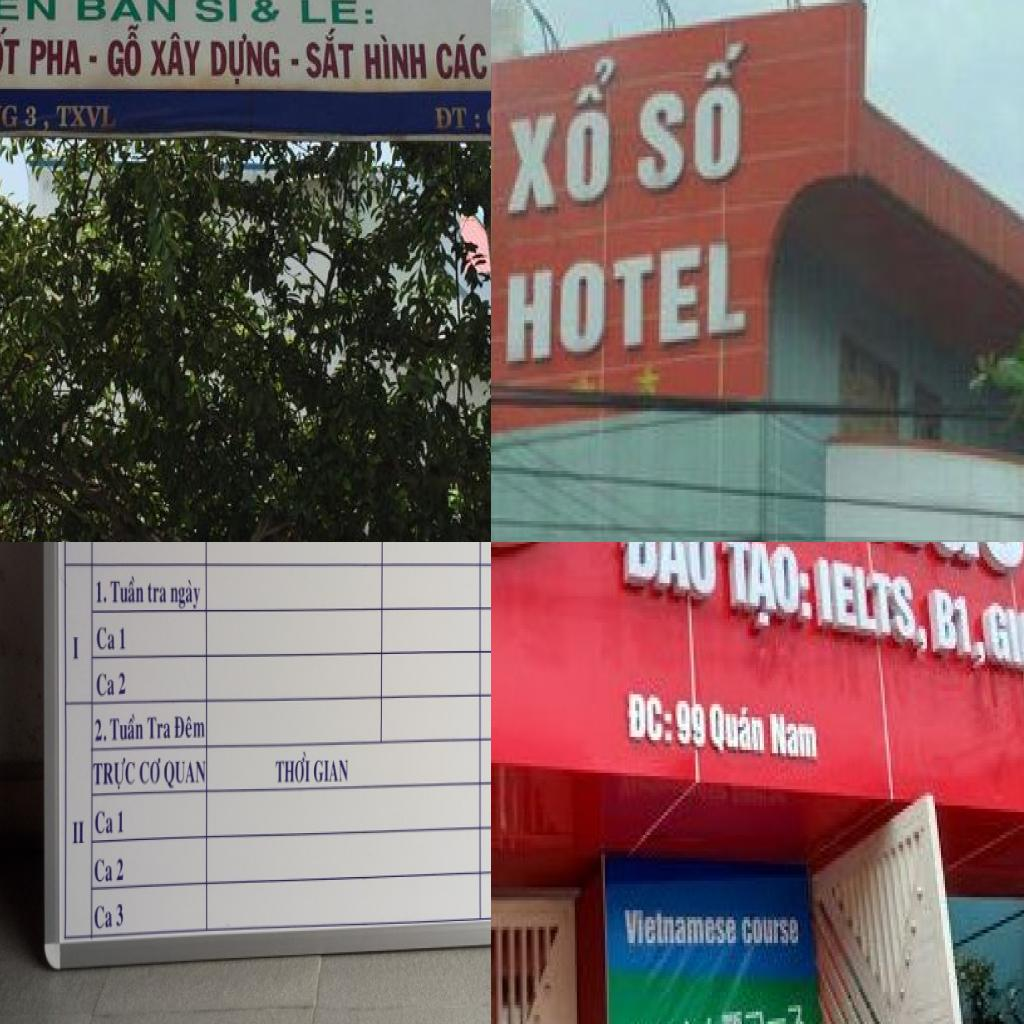text: (501, 222, 757, 374), (504, 47, 622, 226), (636, 38, 757, 198), (816, 554, 933, 662), (723, 542, 818, 638), (621, 542, 719, 606), (623, 904, 740, 950), (931, 583, 991, 672), (209, 32, 284, 88), (357, 32, 432, 88), (708, 698, 768, 760), (147, 29, 205, 86), (431, 28, 491, 82), (303, 26, 356, 86), (985, 599, 1024, 677), (73, 0, 179, 27), (768, 711, 820, 766), (27, 31, 85, 79), (627, 691, 676, 747), (49, 104, 120, 136), (106, 26, 146, 80), (676, 694, 710, 754), (294, 0, 363, 28), (742, 917, 802, 949), (272, 746, 312, 790), (92, 755, 138, 793), (164, 755, 208, 790), (190, 0, 242, 28), (431, 100, 472, 132), (107, 711, 144, 746), (172, 708, 206, 746), (168, 576, 202, 610), (0, 25, 22, 77), (111, 574, 144, 606), (138, 752, 163, 790), (251, 0, 284, 27), (145, 711, 172, 742), (92, 853, 114, 888), (94, 668, 116, 702), (93, 806, 115, 839), (95, 622, 116, 656), (94, 900, 114, 932), (146, 577, 168, 606), (23, 98, 40, 132), (71, 815, 87, 847), (96, 576, 110, 610), (68, 632, 83, 662), (94, 715, 108, 745), (117, 623, 128, 654), (115, 900, 126, 931), (115, 856, 125, 886), (116, 809, 126, 836), (118, 670, 128, 696)
